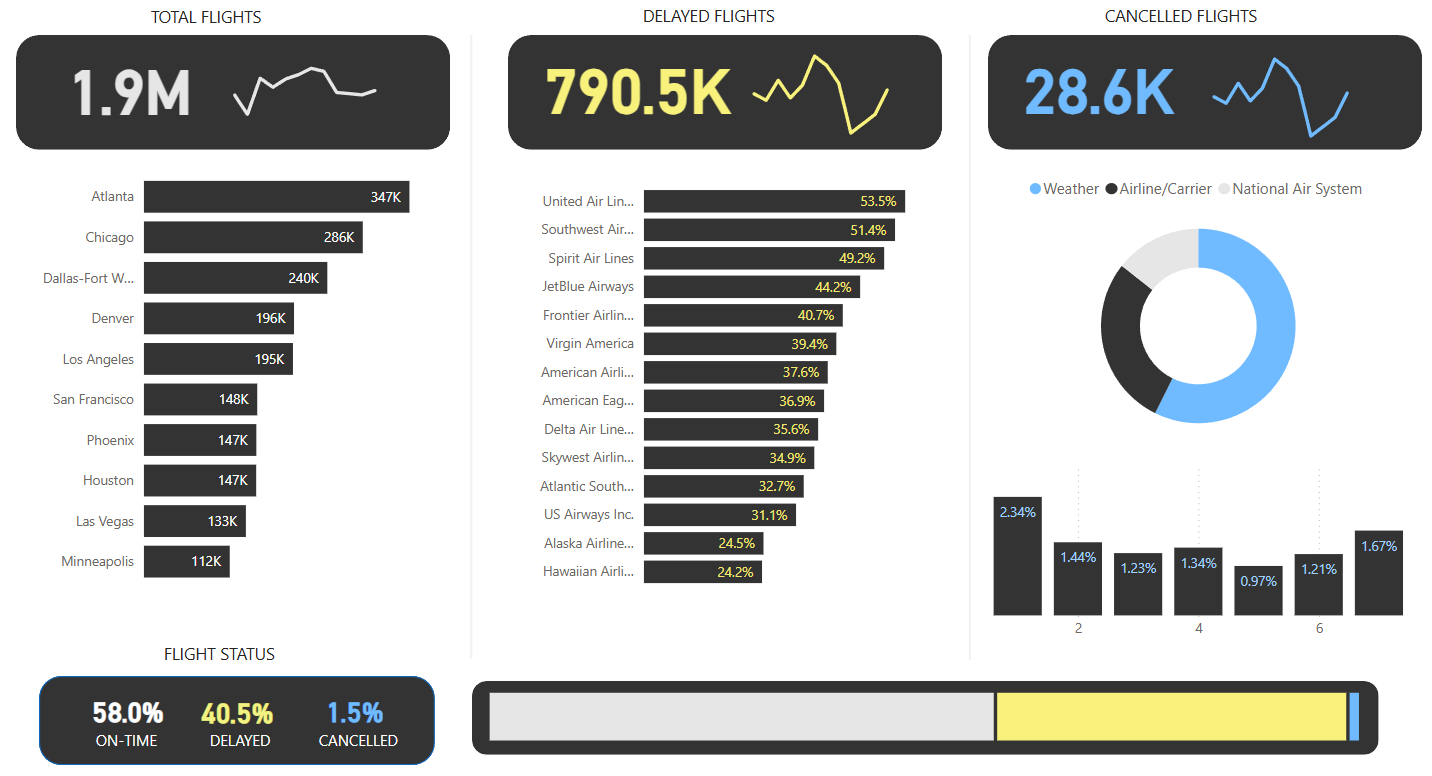

The page's visual inventory and layout, read from the dashboard file:
{"tool":"powerbi","page":{"name":"Flight Status Dashboard","canvas":[1280,720],"ordinal":0},"visuals":[{"type":"shape","box":[42,620,351,79],"z":0},{"type":"textbox","box":[75.6,305.6,208.9,53.3],"z":1000},{"type":"textbox","box":[571.9,18.6,144.5,32.8],"z":2000},{"type":"textbox","box":[981.6,18.6,153.4,32.8],"z":3000},{"type":"textbox","box":[494.4,317.8,155.6,32.2],"z":4000},{"type":"textbox","box":[925.6,216.7,172.2,32.2],"z":5000},{"type":"card","fields":{"Values":["flights.Delayed Flights"]},"box":[126.8,148.1,94.9,91.3],"z":6000},{"type":"card","fields":{"Values":["flights.% On-Time"]},"box":[200.4,260.7,225.2,98.4],"z":7000},{"type":"card","fields":{"Values":["flights.Total Flights"]},"box":[21.2,146.1,238.9,141.1],"z":8000},{"type":"lineChart","fields":{"Category":["flights.MONTH"],"Y":["flights.Total Flights"]},"box":[193.5,177.4,208.6,83.7],"z":9000},{"type":"textbox","box":[135.7,19.5,128.6,31.9],"z":10000},{"type":"card","fields":{"Values":["flights.% On-Time"]},"box":[47,614,146,76],"z":11000},{"type":"card","fields":{"Values":["flights.% Delayed"]},"box":[166,624,103,55],"z":12000},{"type":"barChart","fields":{"Category":["airports.CITY"],"Y":["flights.Total Flights"]},"box":[26,153,384,399],"z":13000},{"type":"barChart","fields":{"Y":["flights.% Delayed"],"Category":["airlines.AIRLINE"]},"box":[469,166,384,387],"z":14000},{"type":"donutChart","fields":{"Category":["cancellation_codes.CANCELLATION_DESCRIPTION"],"Y":["flights.Cancelled Flights"]},"box":[882.9,167.3,372.9,255],"z":15000},{"type":"clusteredColumnChart","fields":{"Category":["flights.DAY_OF_WEEK"],"Y":["flights.% Cancelled"]},"box":[883,422,373,174],"z":16000},{"type":"textbox","box":[87,663,79,31],"z":17000},{"type":"textbox","box":[188,663,72,31],"z":18000},{"type":"textbox","box":[147.2,584.3,132.1,35.5],"z":19000},{"type":"card","fields":{"Values":["flights.% Cancelled"]},"box":[285,631,74,40],"z":20000},{"type":"textbox","box":[285,663,97,30],"z":21000},{"type":"shape","box":[411.4,51.4,27.5,553.3],"z":22000},{"type":"shape","box":[853,51.4,28.4,554.2],"z":23000},{"type":"shape","box":[425.3,623.9,804.3,65.5],"z":24000},{"type":"hundredPercentStackedBarChart","fields":{"Y":["flights.Total Flights"],"Series":["flights.Status "]},"box":[436.4,584.6,781.1,135.1],"z":25000},{"type":"shape","box":[21.2,51.4,385,101.8],"z":26000},{"type":"shape","box":[457.6,51.4,385,101.8],"z":27000},{"type":"shape","box":[882.9,51.4,385,101.8],"z":28000},{"type":"card","fields":{"Values":["flights.Total Flights"]},"box":[47.4,51.4,150.2,88.7],"z":29000},{"type":"lineChart","fields":{"Category":["flights.MONTH"],"Y":["flights.Total Flights"]},"box":[188.5,55.4,199.6,90.7],"z":30000},{"type":"card","fields":{"Values":["flights.Delayed Flights"]},"box":[481.8,53.4,181.4,83.7],"z":31000},{"type":"lineChart","fields":{"Category":["flights.MONTH"],"Y":["flights.Delayed Flights"]},"box":[650.1,53.4,191.5,94.7],"z":32000},{"type":"card","fields":{"Values":["flights.Cancelled Flights"]},"box":[899,53.4,164.3,83.7],"z":33000},{"type":"lineChart","fields":{"Category":["flights.MONTH"],"Y":["flights.Delayed Flights"]},"box":[1058.3,55.4,191.5,94.7],"z":34000}]}

Visuals, with their boxes on the page's 1280x720 design canvas (x1, y1, x2, y2). These are canvas units, not pixel positions in the 1432x776 screenshot, which may show the page scaled, cropped or inside an application window:
shape: x1=42, y1=620, x2=393, y2=699
textbox: x1=76, y1=306, x2=284, y2=359
textbox: x1=572, y1=19, x2=716, y2=51
textbox: x1=982, y1=19, x2=1135, y2=51
textbox: x1=494, y1=318, x2=650, y2=350
textbox: x1=926, y1=217, x2=1098, y2=249
card - flights.Delayed Flights: x1=127, y1=148, x2=222, y2=239
card - flights.% On-Time: x1=200, y1=261, x2=426, y2=359
card - flights.Total Flights: x1=21, y1=146, x2=260, y2=287
lineChart - flights.MONTH x flights.Total Flights: x1=194, y1=177, x2=402, y2=261
textbox: x1=136, y1=20, x2=264, y2=51
card - flights.% On-Time: x1=47, y1=614, x2=193, y2=690
card - flights.% Delayed: x1=166, y1=624, x2=269, y2=679
barChart - airports.CITY x flights.Total Flights: x1=26, y1=153, x2=410, y2=552
barChart - flights.% Delayed x airlines.AIRLINE: x1=469, y1=166, x2=853, y2=553
donutChart - cancellation_codes.CANCELLATION_DESCRIPTION x flights.Cancelled Flights: x1=883, y1=167, x2=1256, y2=422
clusteredColumnChart - flights.DAY_OF_WEEK x flights.% Cancelled: x1=883, y1=422, x2=1256, y2=596
textbox: x1=87, y1=663, x2=166, y2=694
textbox: x1=188, y1=663, x2=260, y2=694
textbox: x1=147, y1=584, x2=279, y2=620
card - flights.% Cancelled: x1=285, y1=631, x2=359, y2=671
textbox: x1=285, y1=663, x2=382, y2=693
shape: x1=411, y1=51, x2=439, y2=605
shape: x1=853, y1=51, x2=881, y2=606
shape: x1=425, y1=624, x2=1230, y2=689
hundredPercentStackedBarChart - flights.Total Flights x flights.Status : x1=436, y1=585, x2=1218, y2=720
shape: x1=21, y1=51, x2=406, y2=153
shape: x1=458, y1=51, x2=843, y2=153
shape: x1=883, y1=51, x2=1268, y2=153
card - flights.Total Flights: x1=47, y1=51, x2=198, y2=140
lineChart - flights.MONTH x flights.Total Flights: x1=188, y1=55, x2=388, y2=146
card - flights.Delayed Flights: x1=482, y1=53, x2=663, y2=137
lineChart - flights.MONTH x flights.Delayed Flights: x1=650, y1=53, x2=842, y2=148
card - flights.Cancelled Flights: x1=899, y1=53, x2=1063, y2=137
lineChart - flights.MONTH x flights.Delayed Flights: x1=1058, y1=55, x2=1250, y2=150
